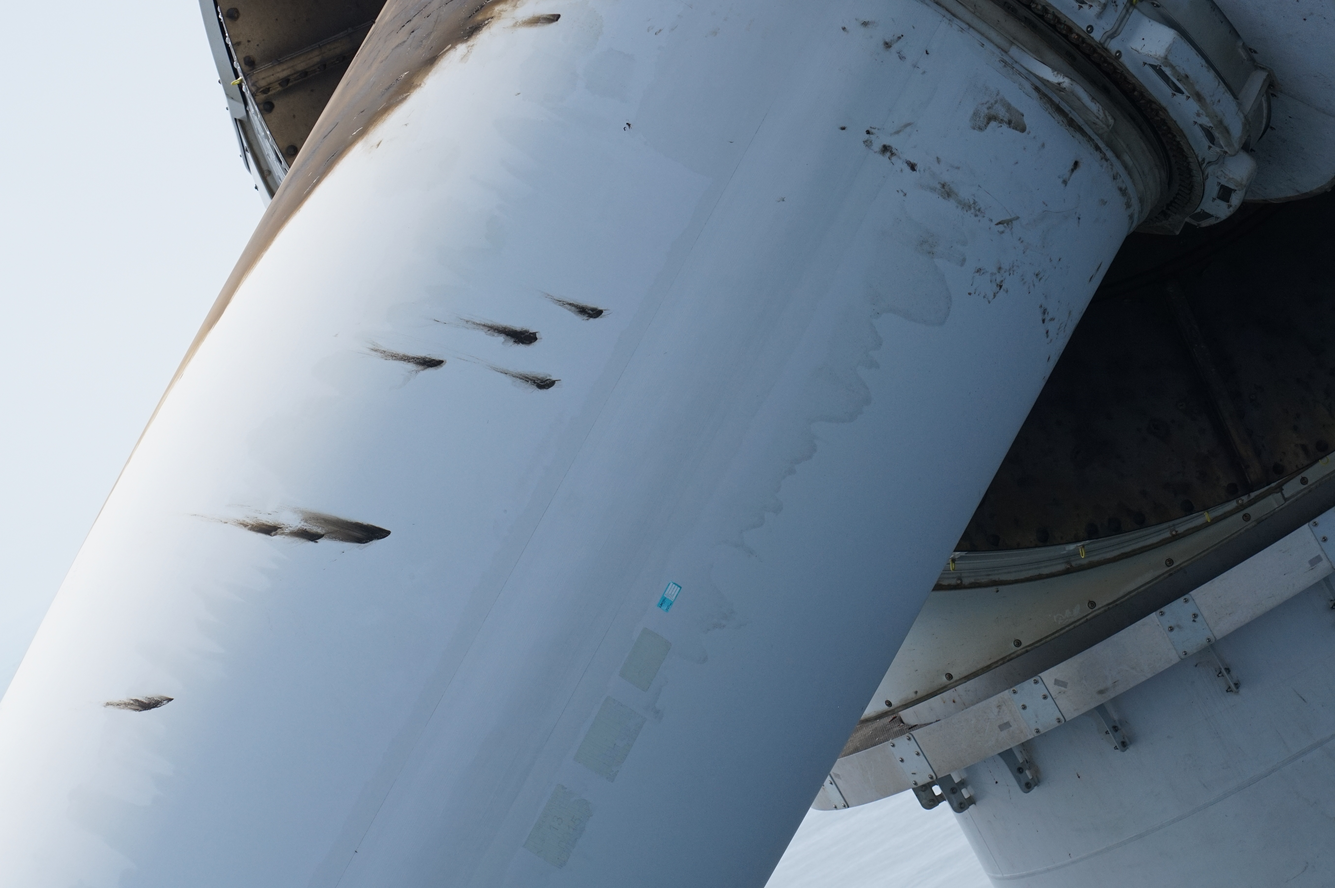Dirt: (205, 504, 397, 546), (365, 343, 449, 375), (459, 318, 542, 350), (488, 365, 559, 395), (546, 298, 612, 327), (103, 696, 176, 714)
